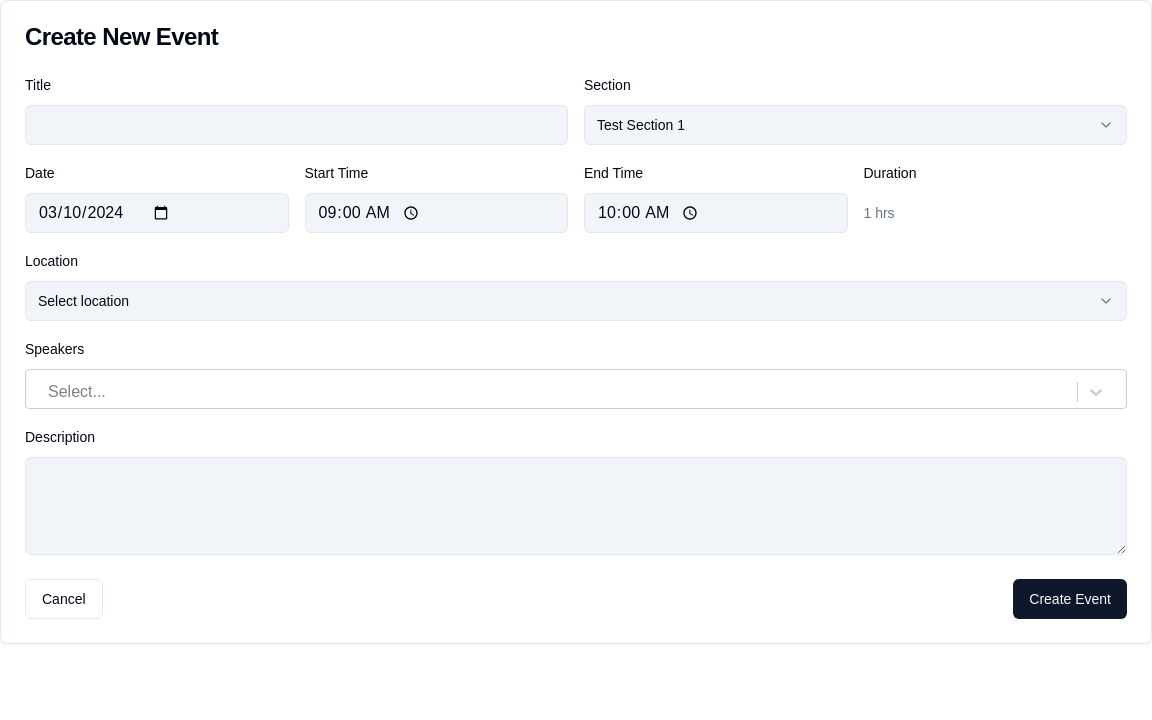
EventForm › automatically adjusts end time when start time changes to maintain duration
Replace the text in the time field labelled "Start Time" with "10:00": (436, 213) x1=304 y1=193 x2=568 y2=233
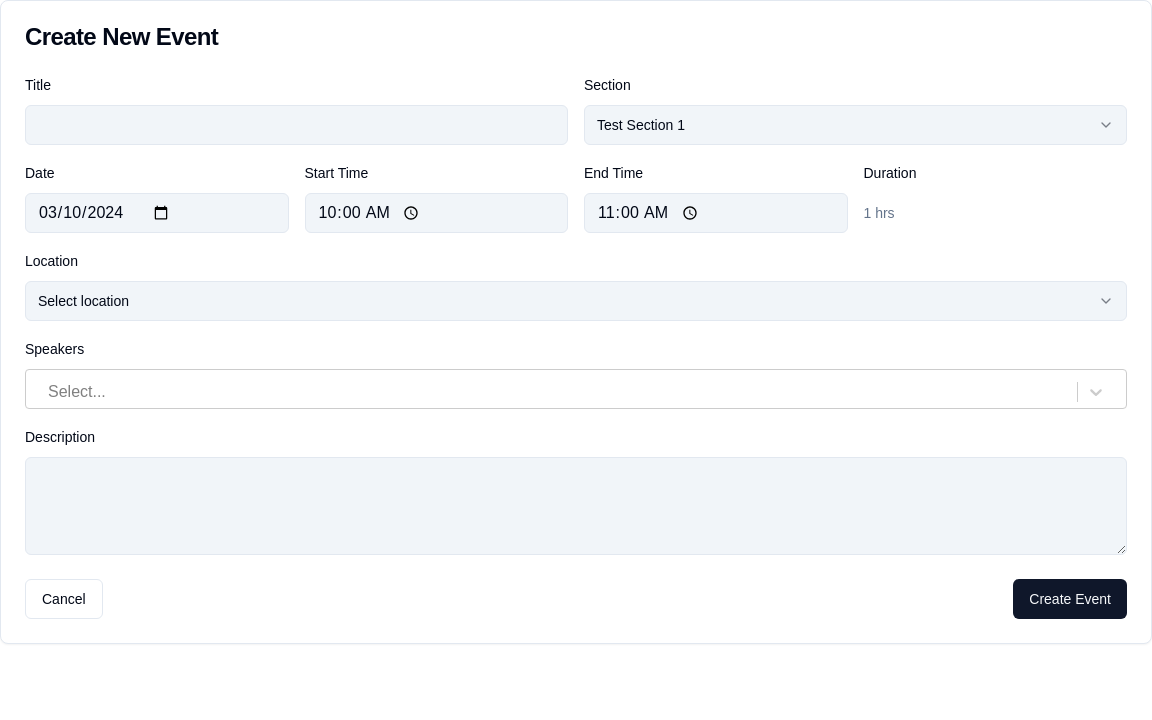
Replace the text in the time field labelled "End Time" with "10:30": (716, 213) x1=584 y1=193 x2=848 y2=233
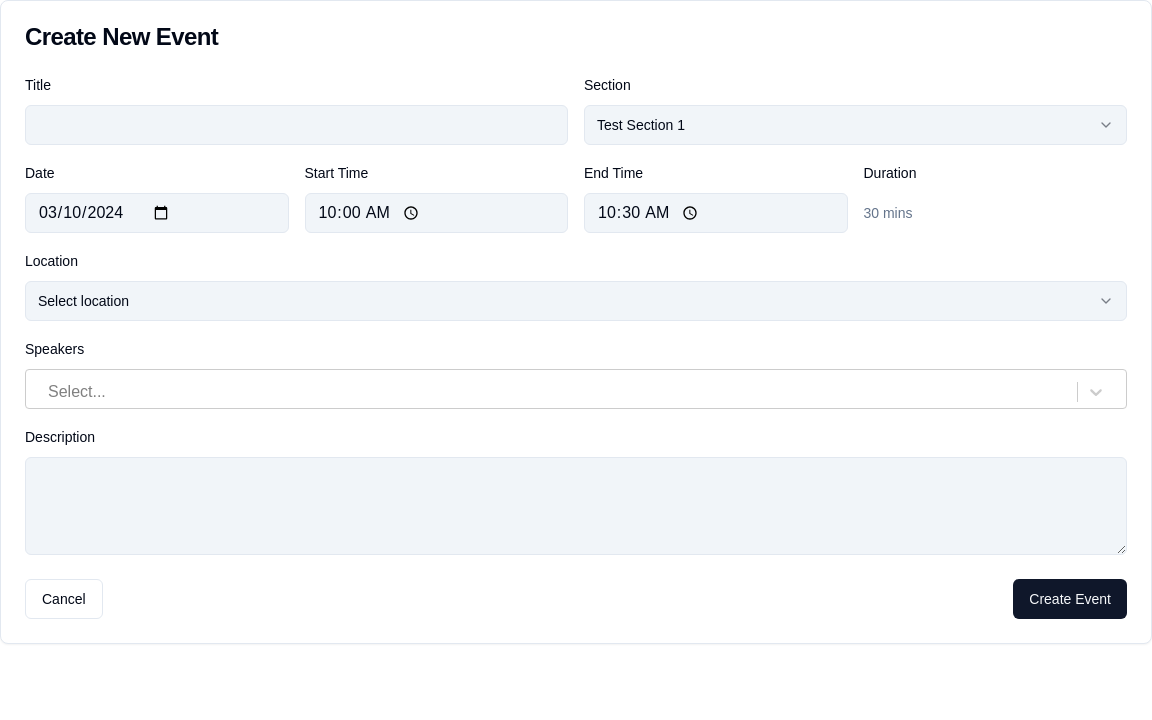
Note: Change start time and check if end time is adjusted
Replace the text in the time field labelled "Start Time" with "11:00": (436, 213) x1=304 y1=193 x2=568 y2=233
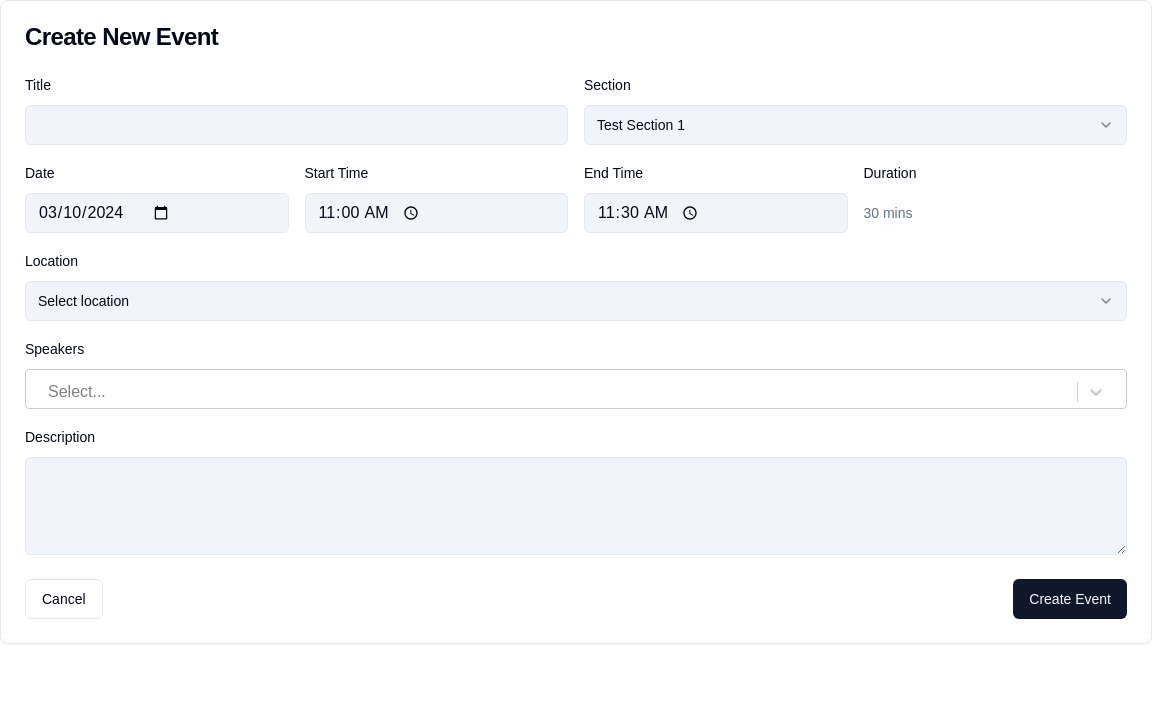
Check: the time field labelled "End Time" holds "11:30", box x1=584 y1=193 x2=848 y2=233
Note: Try another change
Replace the text in the time field labelled "Start Time" with "14:45": (436, 213) x1=304 y1=193 x2=568 y2=233
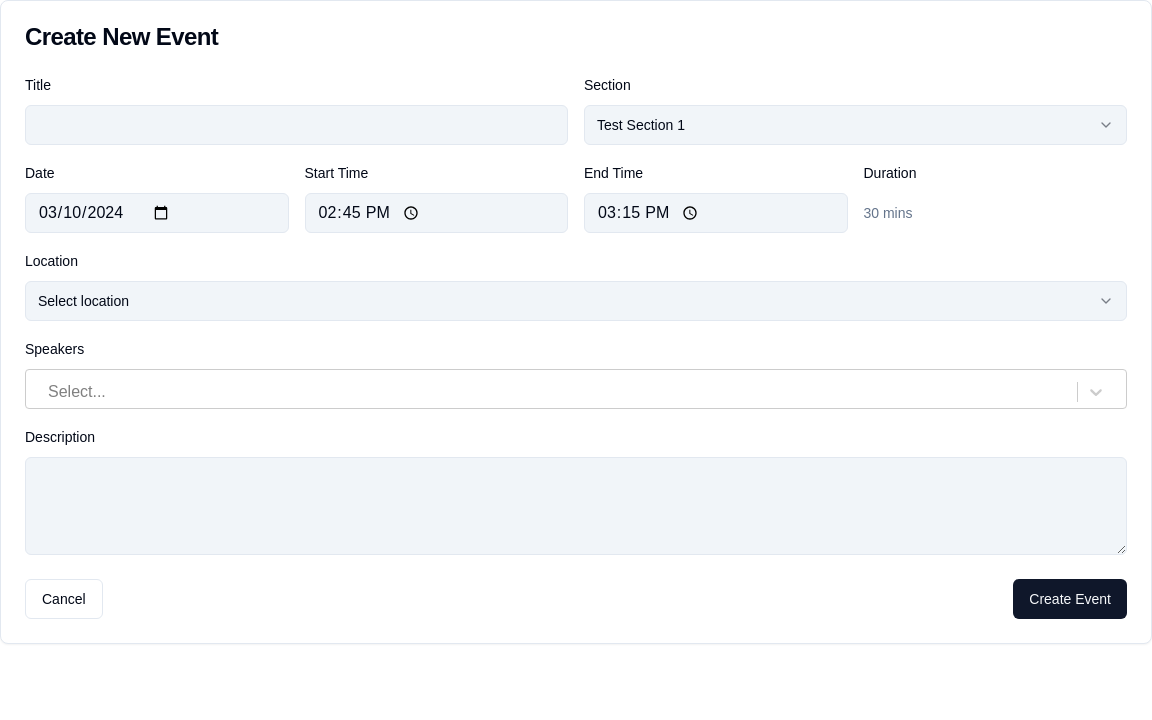
Check: the time field labelled "End Time" holds "15:15", box x1=584 y1=193 x2=848 y2=233
